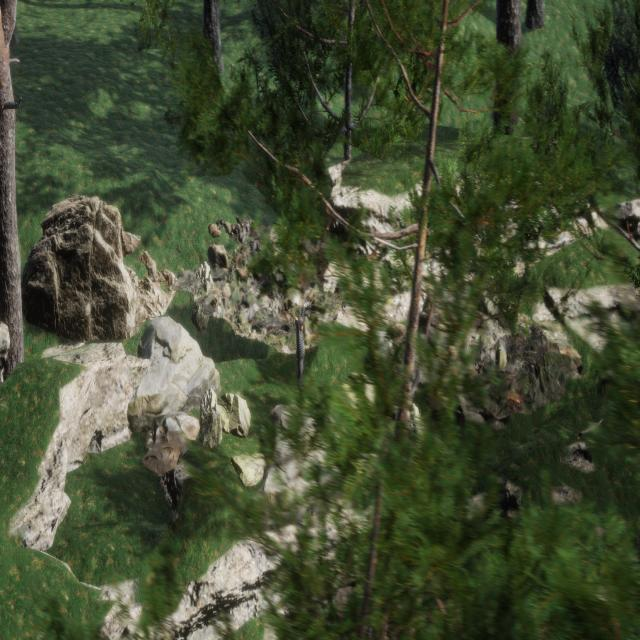Human: (291, 295, 312, 398)
